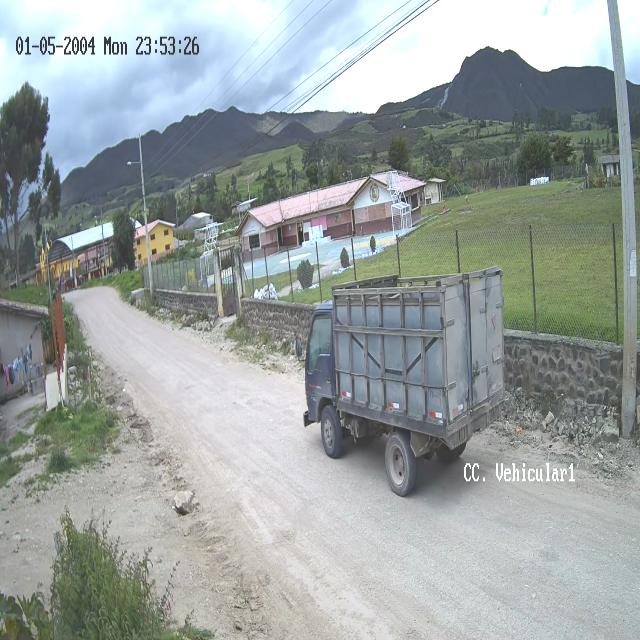TRUCK: (305, 268, 507, 498)
